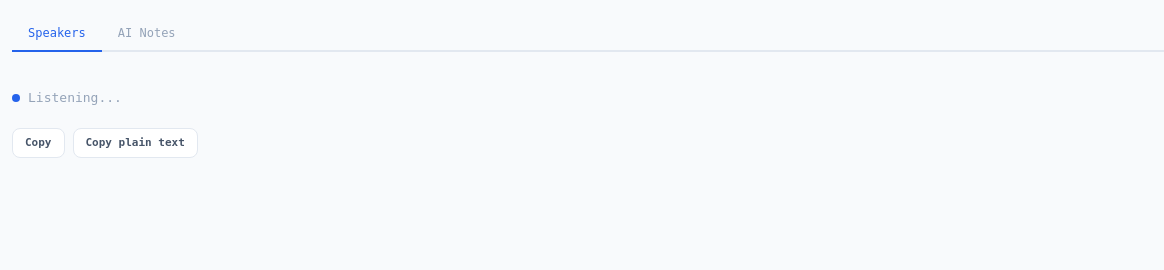
all-empty accepted source disables derived notes on GPU/CPU (false)
The width and height of the screenshot is (1164, 270).
Click the button "AI Notes" at (147, 34), box [102,16,192,52]
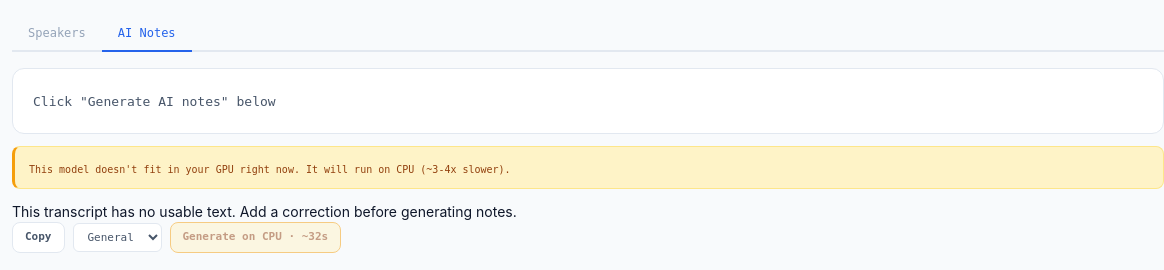
Check: the button "Generate on CPU · ~32s" is disabled, box [170,222,341,253]
Check: the text "This transcript has no usable text. Add a correction before generating notes." is shown, box [12,203,517,220]
